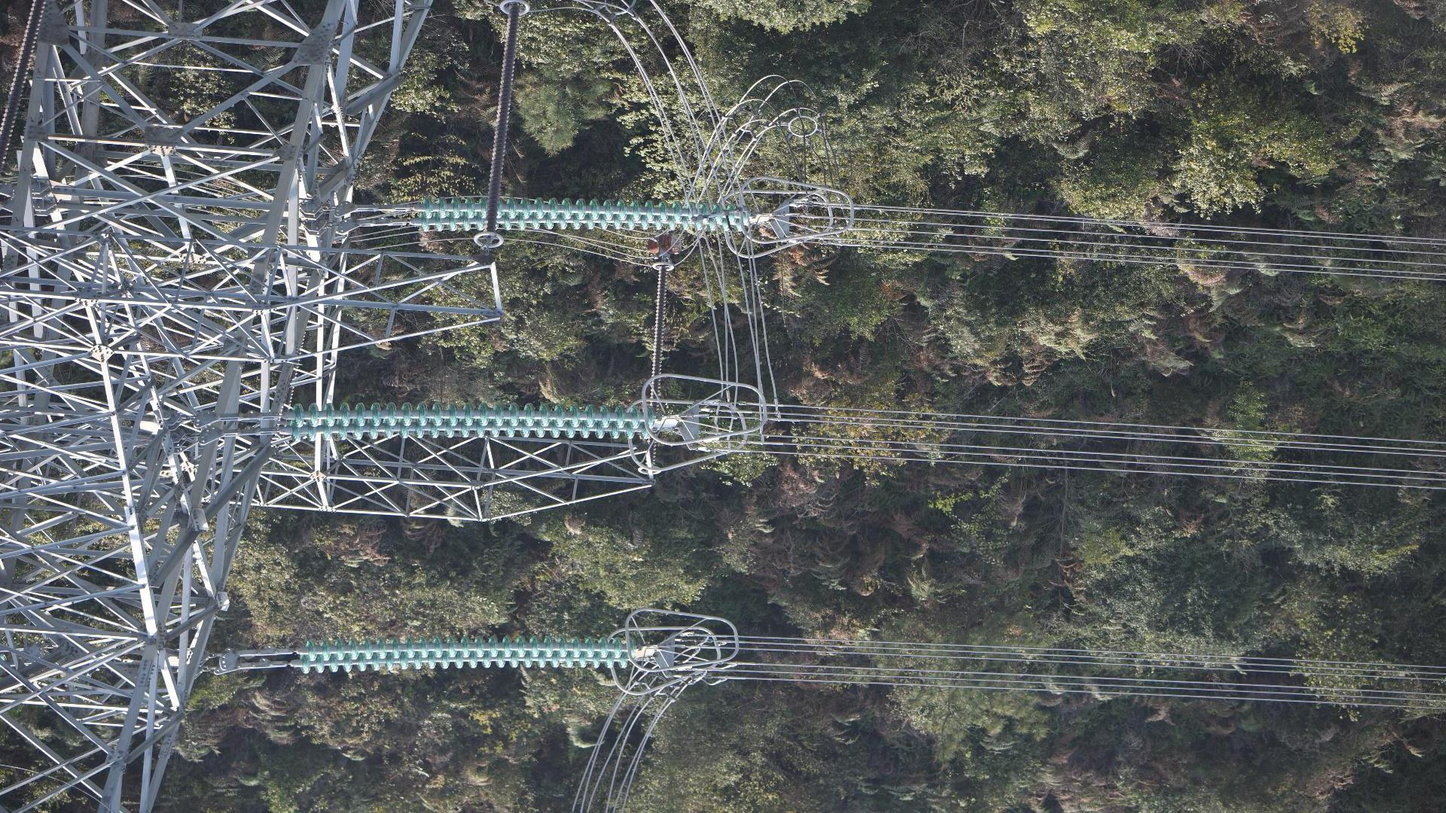insulator: (285, 398, 659, 444), (297, 632, 641, 678), (419, 191, 758, 236), (484, 1, 532, 232), (1, 1, 49, 174), (649, 264, 670, 406)
